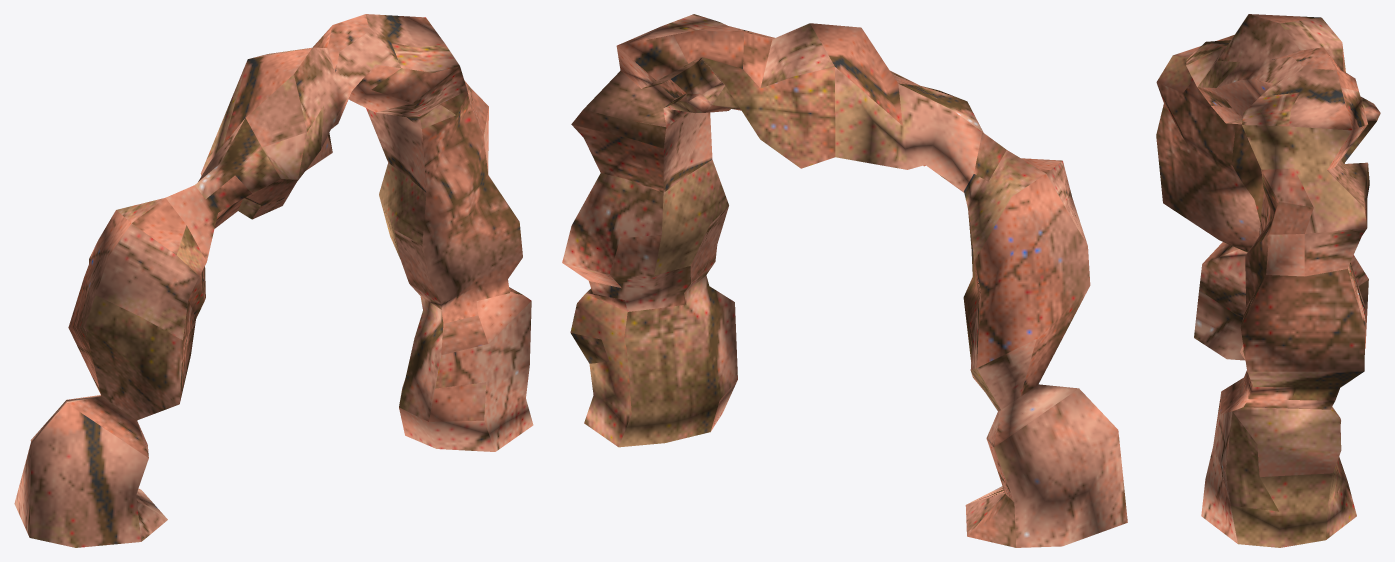
File: piedra 3.fbx
3 views of the same model, side by side, from view 1: azimuth 30°, elevation 25°; view 2: azimuth 150°, elevation 25°; view 3: azimuth 270°, elevation 25° (orthographic). The views are drawn at different scales.
Visible parts, largest first — view 1: Cliff_Small_Standard; view 2: Cliff_Small_Standard; view 3: Cliff_Small_Standard.
Boxes of the visible parts, x1=… form: Cliff_Small_Standard: x1=14, y1=14, x2=533, y2=547; Cliff_Small_Standard: x1=562, y1=14, x2=1127, y2=547; Cliff_Small_Standard: x1=1156, y1=14, x2=1380, y2=547.
Bounding box in the file's own units: 1000 × 785 × 380.
